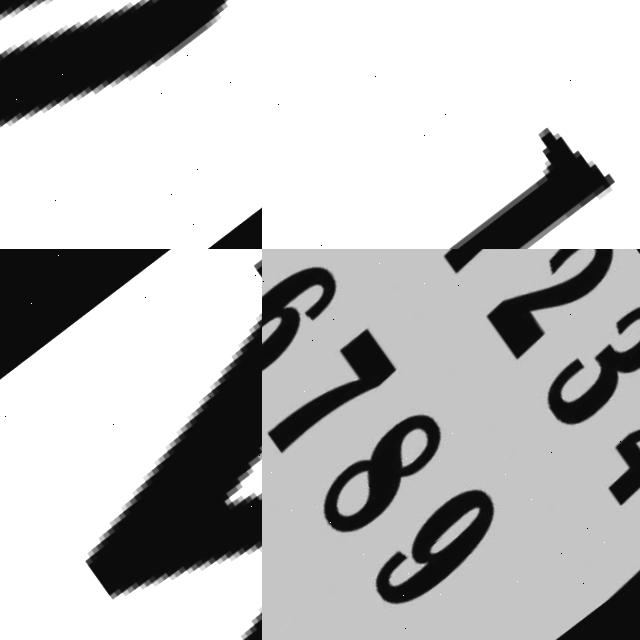1: (399, 249, 596, 309)
2: (459, 249, 640, 384)
3: (513, 284, 640, 463)
4: (572, 361, 640, 535)
6: (262, 249, 375, 408)
7: (262, 311, 431, 495)
8: (294, 380, 496, 566)
9: (0, 0, 262, 249), (337, 460, 545, 640)
J: (262, 0, 640, 249)
W: (0, 249, 262, 640)
